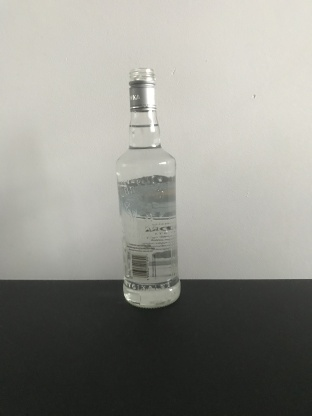nakretka: (127, 66, 157, 112)
